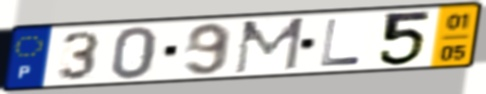0: (108, 24, 162, 81)
3: (56, 29, 102, 81)
5: (376, 8, 437, 67)
9: (184, 21, 234, 77)
L: (318, 17, 364, 68)
M: (231, 15, 308, 76)
